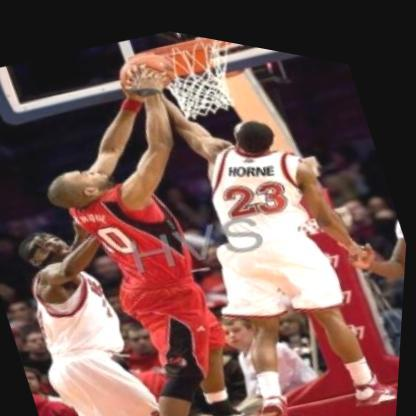basketball: (105, 27, 189, 112)
rim: (142, 21, 247, 124)
